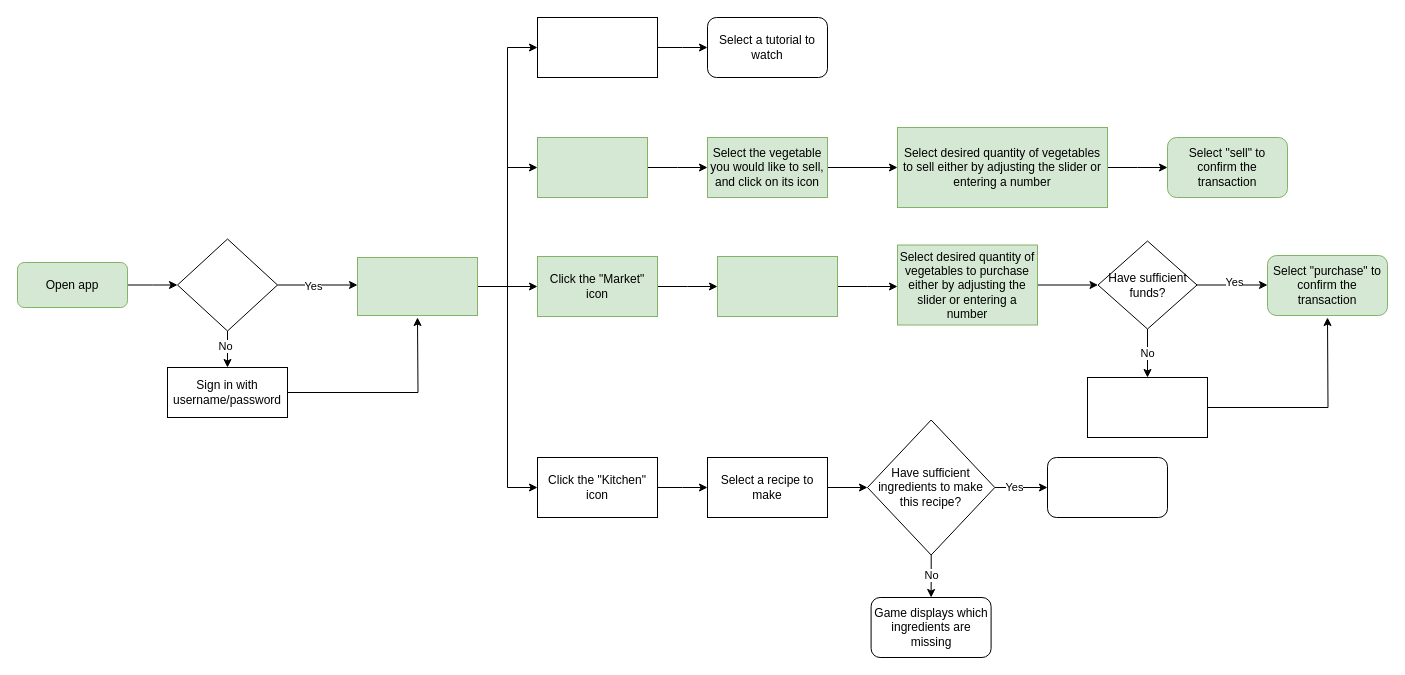
This 1405x675 diagram has some shape labels left out. The centre of each missing label's shape, as x and y in pixels:
Click the "Pantry" icon: (x=592, y=167)
Click the "Tutorials" icon: (x=597, y=47)
Purchase additional funds (costs real money): (x=1147, y=407)
Select the vegetable you would like to purchase, and click on its icon: (x=777, y=286)
Signed into account?: (x=227, y=284)
Start game by clicking anywhere on screen: (x=417, y=286)
User makes the recipe and gets an achievement: (x=1107, y=487)
